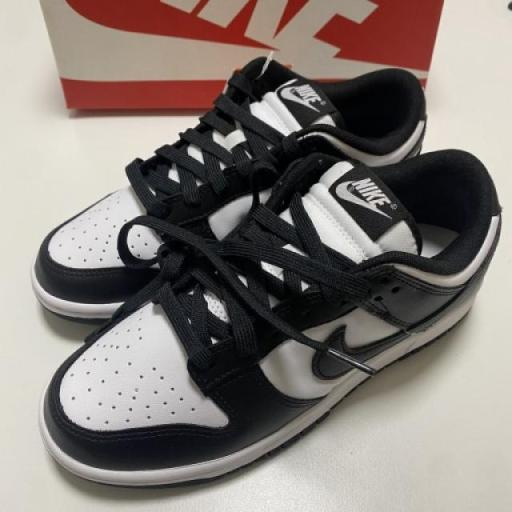Nike: (350, 176, 391, 207), (279, 89, 308, 108)
